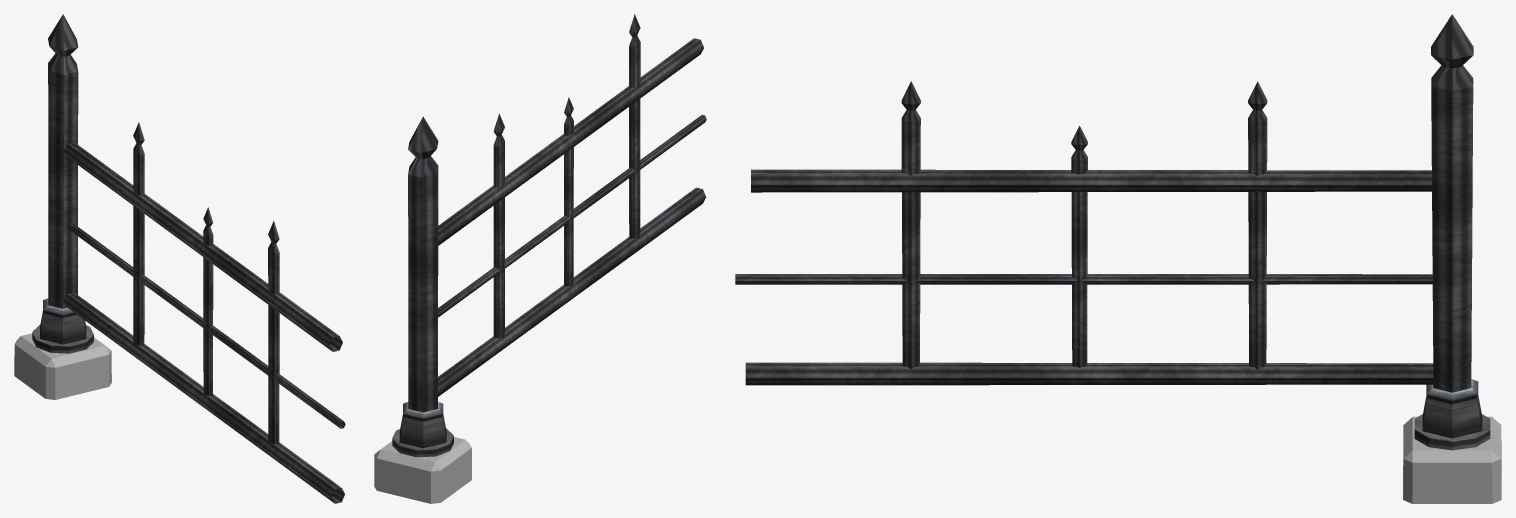
The model's file is adv2_fence.fbx.
The picture shows the model from 3 angles, left to right: view 1: azimuth 30°, elevation 25°; view 2: azimuth 150°, elevation 25°; view 3: azimuth 270°, elevation 25°; orthographic projection. The views are drawn at different scales.
Visible parts, largest first — view 1: Default_Layer; view 2: Default_Layer; view 3: Default_Layer.
Boxes of the visible parts, <box> form: Default_Layer: <box>14,14,345,503</box>; Default_Layer: <box>374,14,706,503</box>; Default_Layer: <box>735,14,1501,503</box>.
Size of the model in its own units: 28.91 by 152 by 225.
